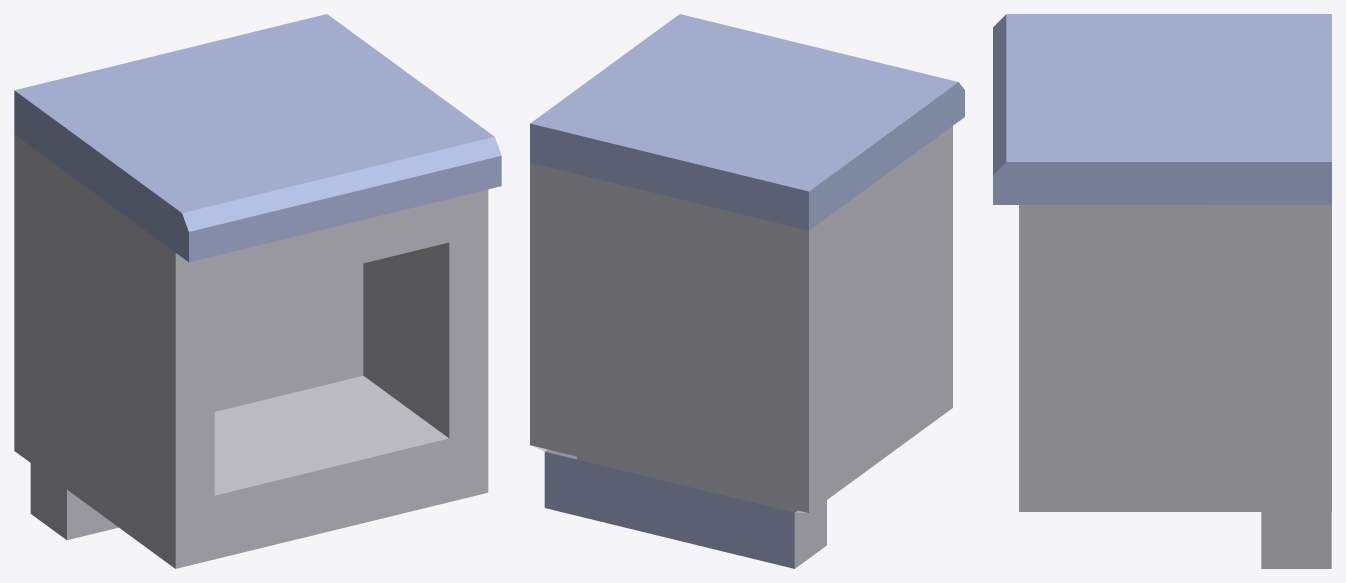
File: cupboard_top_big.fbx
The picture shows the model from 3 angles, left to right: view 1: azimuth 30°, elevation 25°; view 2: azimuth 150°, elevation 25°; view 3: azimuth 270°, elevation 25°; orthographic projection. The views are drawn at different scales.
Parts seen in each view (by area): view 1: Cube.074; view 2: Cube.074; view 3: Cube.074.
Part boxes in pixels (x1,y1,x2,y2): Cube.074: [14, 14, 501, 568]; Cube.074: [530, 14, 964, 568]; Cube.074: [993, 14, 1331, 568].
Bounding box in the file's own units: 200 × 261 × 193.
